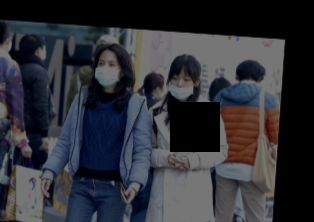mask_weared_incorrect: (167, 72, 196, 101)
with_mask: (93, 56, 120, 89)
